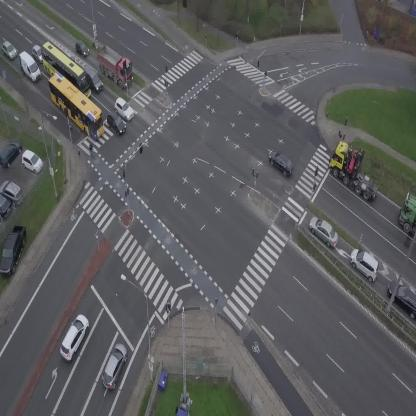bicycle: (87, 142, 94, 156)
bus: (40, 70, 114, 141), (31, 40, 100, 103)
car: (55, 311, 93, 362), (97, 341, 131, 391), (344, 245, 386, 283), (304, 212, 344, 249), (265, 146, 299, 179), (102, 110, 129, 137), (110, 96, 136, 122), (83, 65, 105, 94), (71, 37, 92, 59), (0, 39, 19, 61), (31, 44, 41, 64), (67, 52, 76, 61)
lorry: (320, 136, 395, 204), (88, 40, 142, 91), (13, 49, 45, 85), (399, 193, 416, 236)
